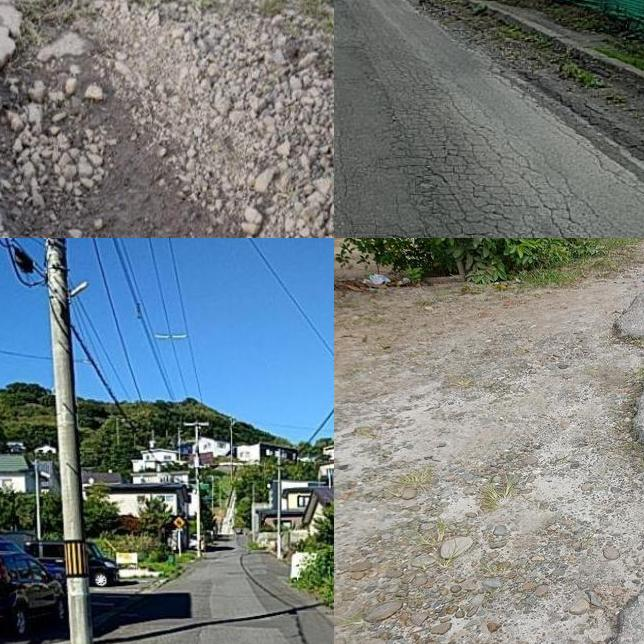Pinggir: (0, 0, 261, 238), (580, 307, 644, 644)
Retak Buaya: (366, 71, 609, 238)
